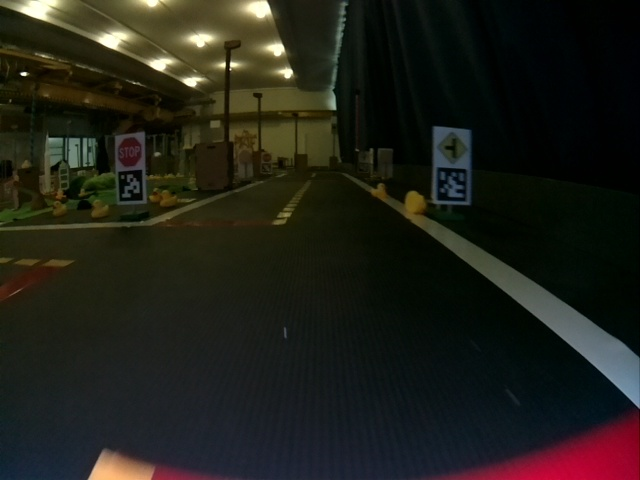Duckie: (405, 191, 424, 213), (160, 191, 177, 207), (93, 200, 108, 218), (372, 184, 388, 199), (53, 202, 66, 215), (149, 189, 159, 203), (79, 188, 87, 197), (57, 190, 63, 198)
Intersection sign: (434, 128, 472, 164)
QR code: (433, 167, 472, 206), (116, 171, 146, 203)
Stop sign: (115, 134, 145, 165)
